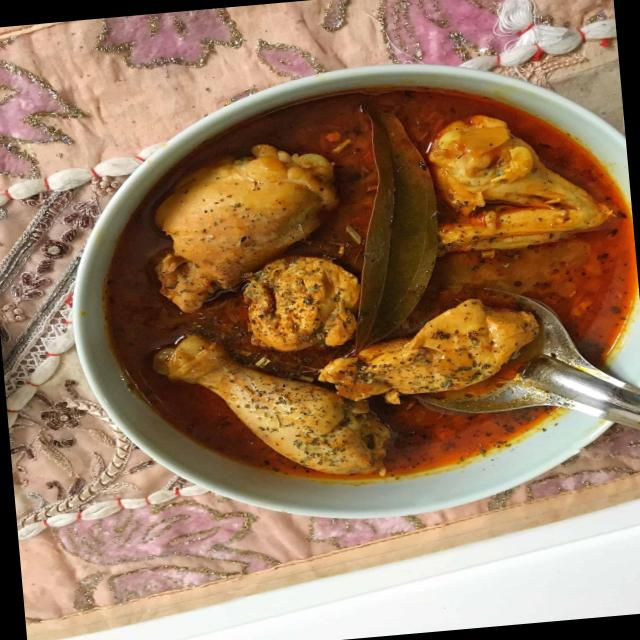chicken: (53, 96, 640, 535)
